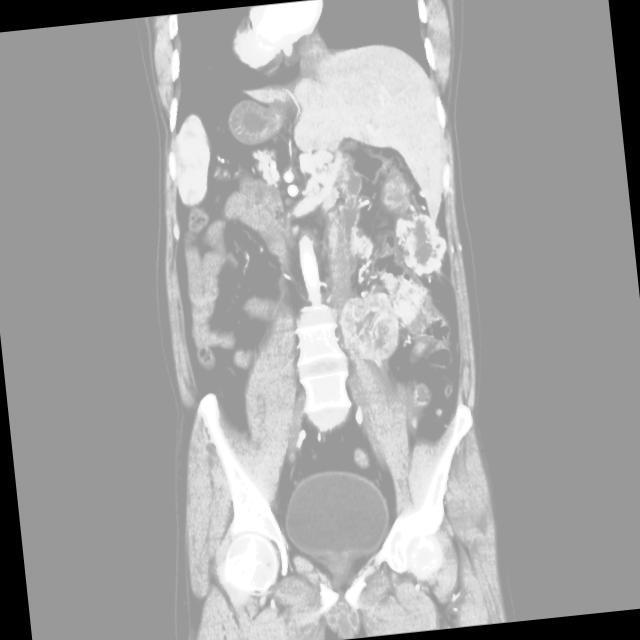TUMOR: (167, 155, 510, 508)
